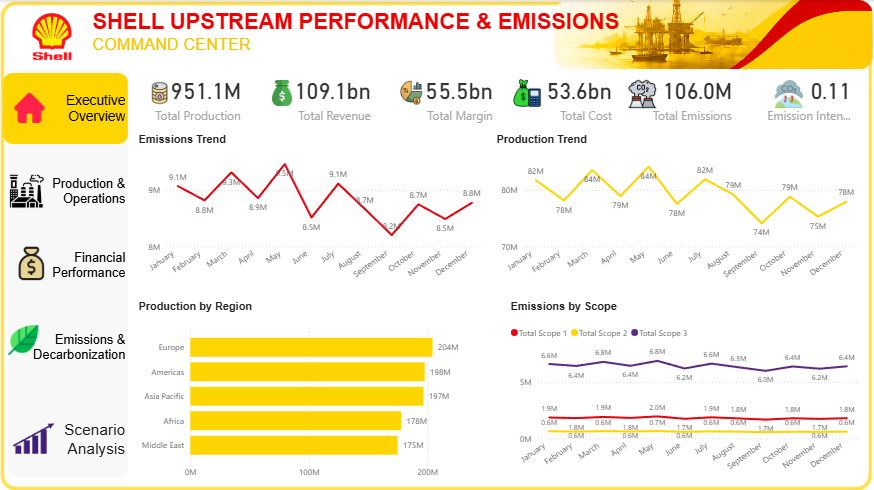

This screenshot's page, from the dashboard's own definition file:
{"tool":"powerbi","page":{"name":"Executive Overview","canvas":[1282,720],"ordinal":0},"visuals":[{"type":"shape","box":[1.5,0,1280,720],"z":0},{"type":"image","box":[813.7,0,466.8,102.4],"z":1000},{"type":"textbox","box":[133.2,8.8,781.5,98],"z":2000},{"type":"image","box":[24.9,0,108.3,106.8],"z":3000},{"type":"shape","box":[14.6,102.4,175.6,595.6],"z":4000},{"type":"actionButton","box":[0,106.8,190.2,103.9],"z":5000},{"type":"actionButton","box":[0,226.8,190.2,105.4],"z":6000},{"type":"actionButton","box":[1.5,335.1,188.8,105.4],"z":7000},{"type":"actionButton","box":[0,455.1,190.2,105.4],"z":8000},{"type":"actionButton","box":[0,586.8,190.2,111.2],"z":9000},{"type":"image","box":[19,136.1,54.1,43.9],"z":10000},{"type":"image","box":[8.8,253.2,64.4,52.7],"z":11000},{"type":"image","box":[24.9,360,48.3,51.2],"z":12000},{"type":"image","box":[0,475.6,73.2,43.9],"z":13000},{"type":"image","box":[19,619,65.9,45.4],"z":14000},{"type":"advanceCardE03760C5AB684758B56AA29F9E6C257B","fields":{"mainMeasure":["All_Measures.Total Production"]},"box":[200.5,101,169.8,87.8],"z":15000},{"type":"clusteredBarChart","title":"Production by Region","fields":{"Category":["dim_asset.region"],"Y":["All_Measures.Total Production"]},"box":[200.5,439,535.6,270.7],"z":16000},{"type":"lineChart","title":"Emissions Trend","fields":{"Category":["dim_date.month_name"],"Y":["All_Measures.Total Emissions"]},"box":[200.5,194.6,513.7,234.1],"z":17000},{"type":"lineChart","title":"Production Trend","fields":{"Category":["dim_date.month_name"],"Y":["All_Measures.Total Production"]},"box":[724.4,194.6,538.5,234.1],"z":18000},{"type":"advanceCardE03760C5AB684758B56AA29F9E6C257B","fields":{"mainMeasure":["All_Measures.Total Revenue"]},"box":[379,101,181.5,87.8],"z":19000},{"type":"advanceCardE03760C5AB684758B56AA29F9E6C257B","fields":{"mainMeasure":["All_Measures.Total Margin"]},"box":[569.3,101,169.8,87.8],"z":20000},{"type":"advanceCardE03760C5AB684758B56AA29F9E6C257B","fields":{"mainMeasure":["All_Measures.Total Cost"]},"box":[747.8,101,165.4,87.8],"z":21000},{"type":"advanceCardE03760C5AB684758B56AA29F9E6C257B","fields":{"mainMeasure":["All_Measures.Total Emissions"]},"box":[922,101,166.8,87.8],"z":22000},{"type":"advanceCardE03760C5AB684758B56AA29F9E6C257B","fields":{"mainMeasure":["All_Measures.Emission Intensity"]},"box":[1097.6,101,165.4,87.8],"z":23000},{"type":"lineChart","title":"Emissions by Scope","fields":{"Category":["dim_date.month_name"],"Y":["All_Measures.Total Scope 1","All_Measures.Total Scope 2","All_Measures.Total Scope 3"]},"box":[744.9,439,518,270.7],"z":24000}]}

Visuals, with their boxes in screenshot pixels (x1, y1, x2, y2), scaled from the page's 1282x720 canvas onto the 874x490 screenshot:
shape: pyautogui.locateOnScreen(1, 0, 873, 489)
image: pyautogui.locateOnScreen(555, 0, 873, 70)
textbox: pyautogui.locateOnScreen(91, 6, 624, 73)
image: pyautogui.locateOnScreen(17, 0, 91, 73)
shape: pyautogui.locateOnScreen(10, 70, 130, 475)
actionButton: pyautogui.locateOnScreen(0, 73, 130, 143)
actionButton: pyautogui.locateOnScreen(0, 154, 130, 226)
actionButton: pyautogui.locateOnScreen(1, 228, 130, 300)
actionButton: pyautogui.locateOnScreen(0, 310, 130, 381)
actionButton: pyautogui.locateOnScreen(0, 399, 130, 475)
image: pyautogui.locateOnScreen(13, 93, 50, 122)
image: pyautogui.locateOnScreen(6, 172, 50, 208)
image: pyautogui.locateOnScreen(17, 245, 50, 280)
image: pyautogui.locateOnScreen(0, 324, 50, 354)
image: pyautogui.locateOnScreen(13, 421, 58, 452)
advanceCardE03760C5AB684758B56AA29F9E6C257B - All_Measures.Total Production: pyautogui.locateOnScreen(137, 69, 252, 128)
"Production by Region" clusteredBarChart: pyautogui.locateOnScreen(137, 299, 502, 483)
"Emissions Trend" lineChart: pyautogui.locateOnScreen(137, 132, 487, 292)
"Production Trend" lineChart: pyautogui.locateOnScreen(494, 132, 861, 292)
advanceCardE03760C5AB684758B56AA29F9E6C257B - All_Measures.Total Revenue: pyautogui.locateOnScreen(258, 69, 382, 128)
advanceCardE03760C5AB684758B56AA29F9E6C257B - All_Measures.Total Margin: pyautogui.locateOnScreen(388, 69, 504, 128)
advanceCardE03760C5AB684758B56AA29F9E6C257B - All_Measures.Total Cost: pyautogui.locateOnScreen(510, 69, 623, 128)
advanceCardE03760C5AB684758B56AA29F9E6C257B - All_Measures.Total Emissions: pyautogui.locateOnScreen(629, 69, 742, 128)
advanceCardE03760C5AB684758B56AA29F9E6C257B - All_Measures.Emission Intensity: pyautogui.locateOnScreen(748, 69, 861, 128)
"Emissions by Scope" lineChart: pyautogui.locateOnScreen(508, 299, 861, 483)
